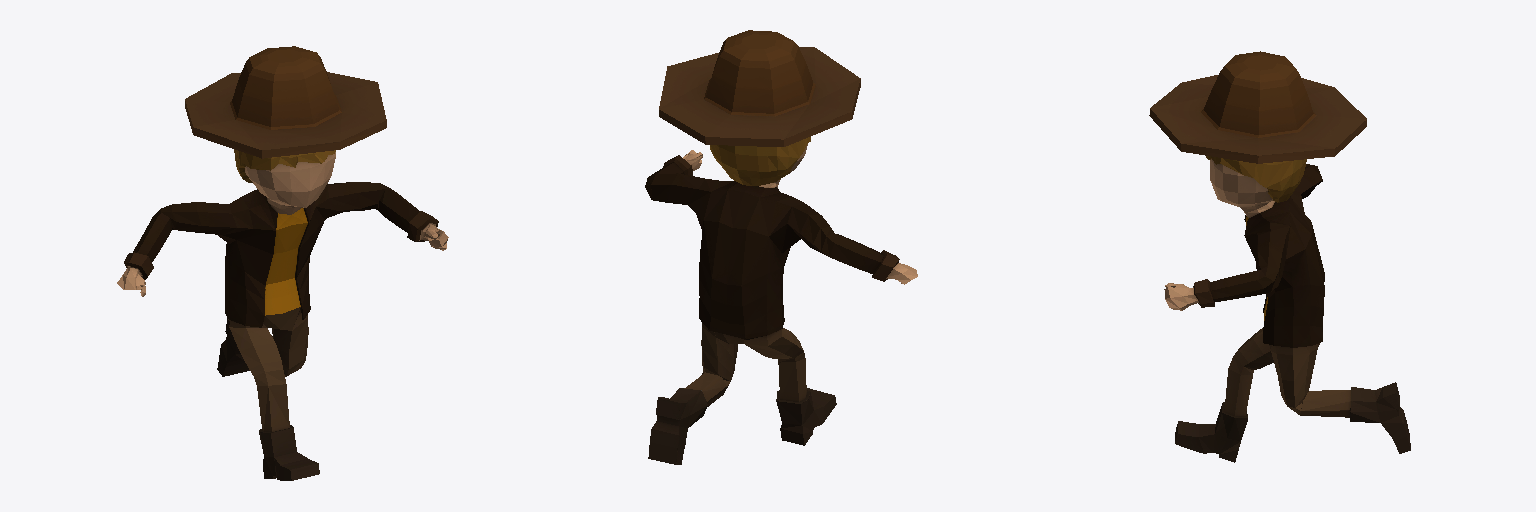
3 views of the same model, side by side, from view 1: azimuth 30°, elevation 25°; view 2: azimuth 150°, elevation 25°; view 3: azimuth 270°, elevation 25° (orthographic).
Visible parts, largest first — view 1: Character_Cube.005; view 2: Character_Cube.005; view 3: Character_Cube.005.
Boxes of the visible parts, <box> form: Character_Cube.005: <box>117,46,448,480</box>; Character_Cube.005: <box>645,30,917,464</box>; Character_Cube.005: <box>1149,51,1410,462</box>.
Size of the model in its own units: 10.92 by 14.99 by 8.74.
Materials: 1 (1 with a texture image).